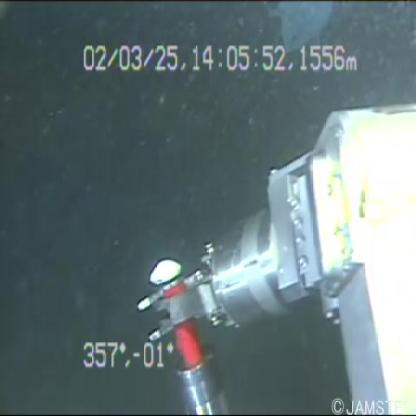Rov: (137, 93, 415, 416)
Rác: (265, 1, 335, 59)
